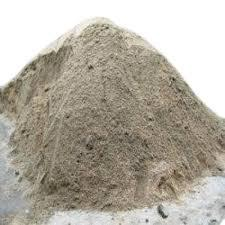sand: (142, 162, 177, 191), (98, 36, 129, 65), (71, 103, 95, 126)
